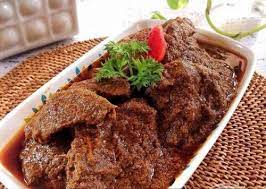rendang: (12, 2, 242, 189)
